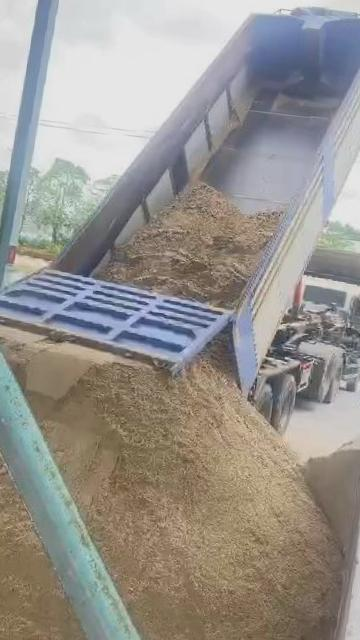sand: (0, 330, 341, 640), (0, 412, 94, 640), (101, 187, 278, 305), (306, 435, 360, 554)
